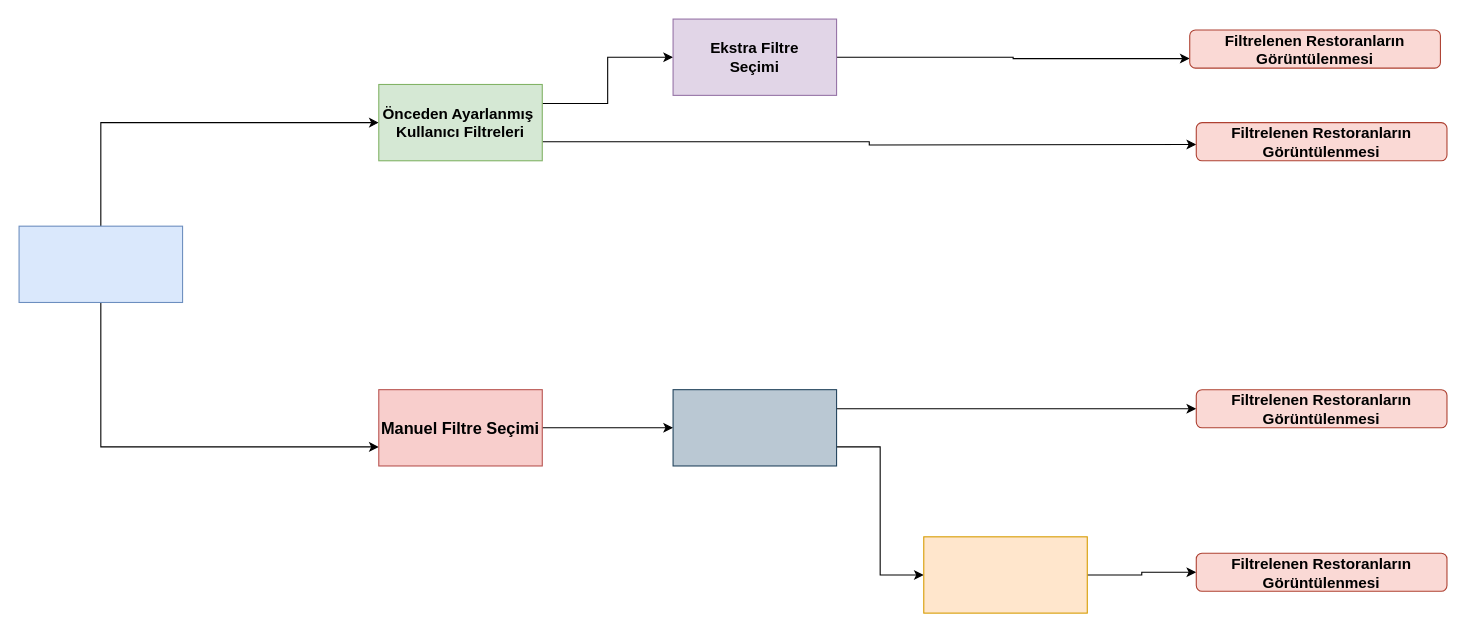
Image size: 1466x632. Some labels were removed from this diagram. The shapes that lost their labels are listed below. From the top down, each one's box as (x1, y1, x2, y2) in pixels, then its label:
(18, 225, 183, 302): Restoran Filtreleme
(672, 389, 837, 466): Alerji Seçimi
(923, 536, 1087, 613): Yemek Türü/Kültürü Filtreleri Seçimi
